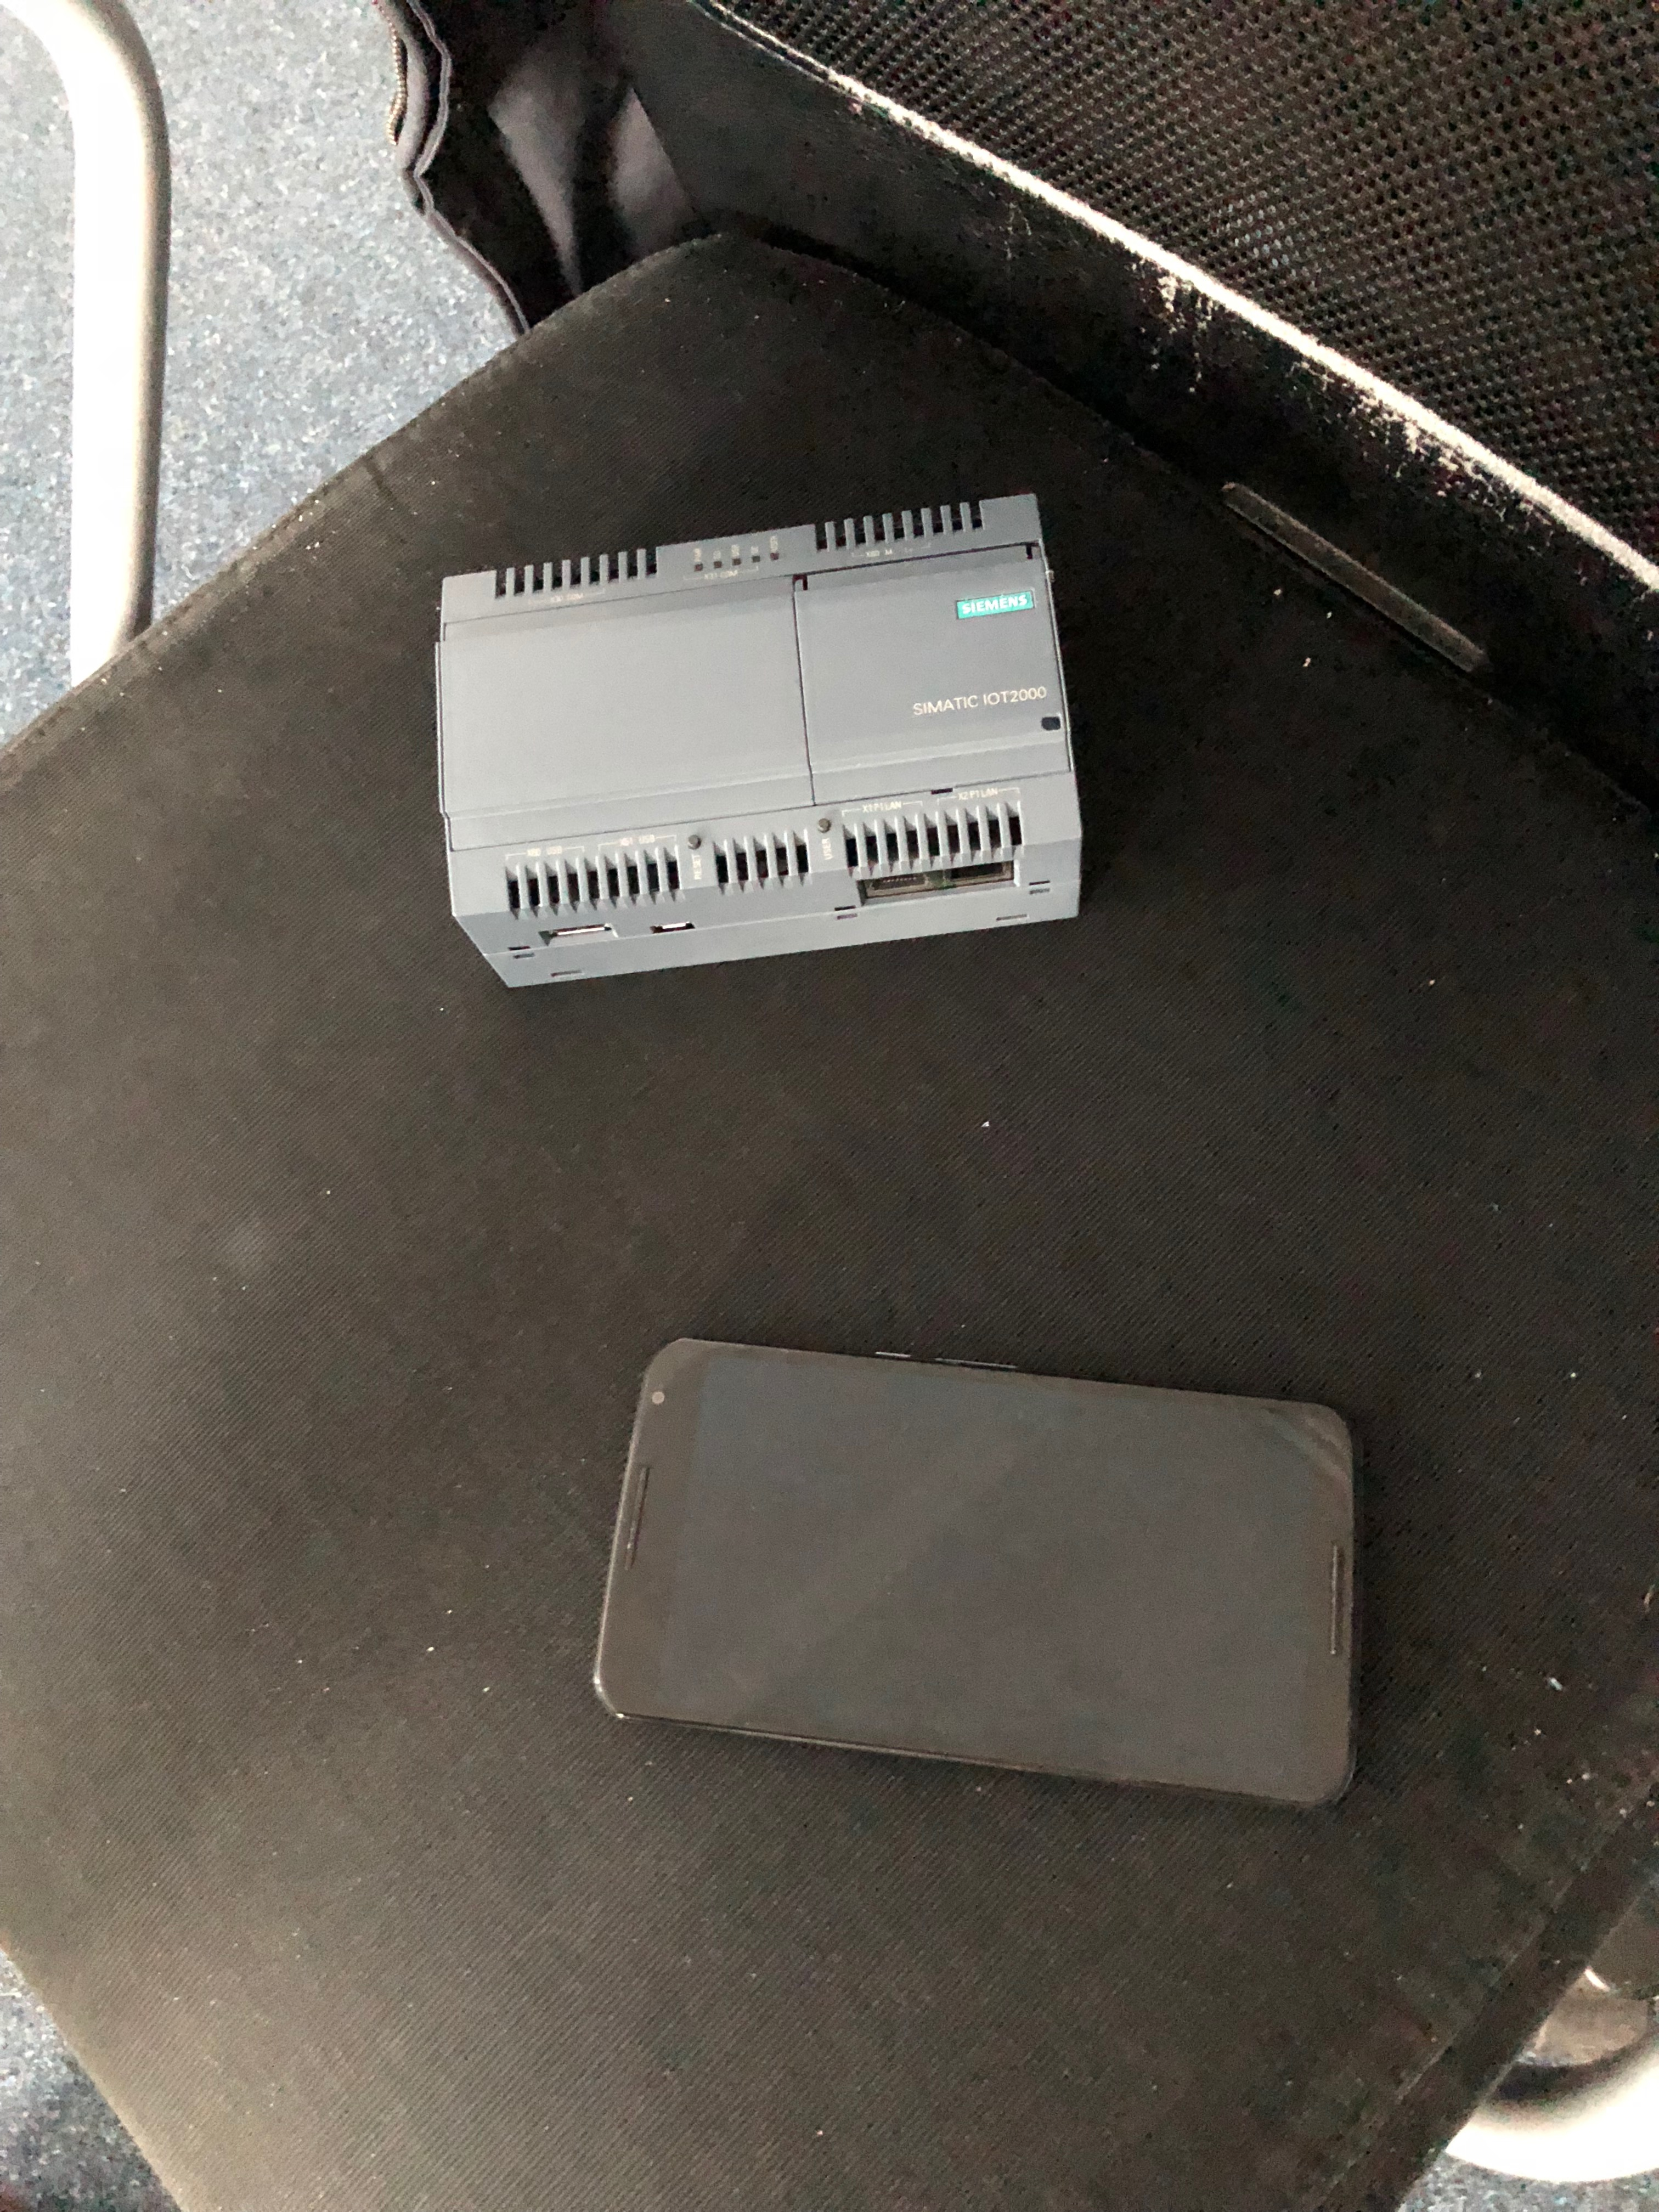device: (436, 493, 1082, 989)
